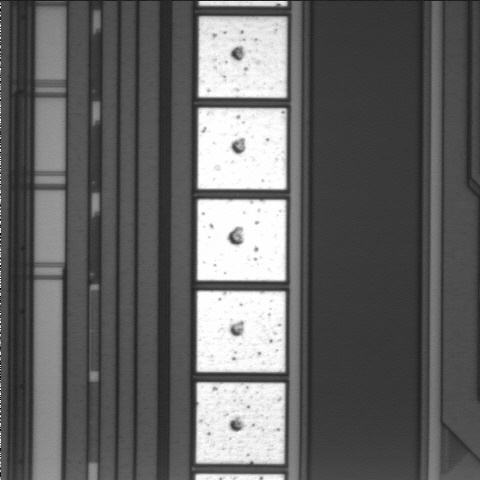pad: (198, 108, 287, 190), (197, 199, 286, 281), (196, 382, 285, 464), (198, 17, 287, 98), (197, 291, 286, 372)
